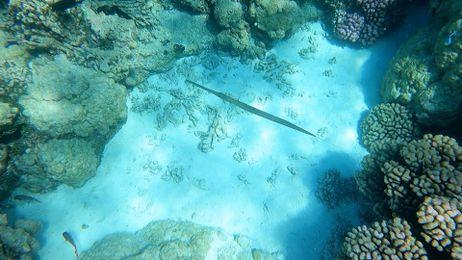Fistularia commersonii: (174, 76, 320, 141)
